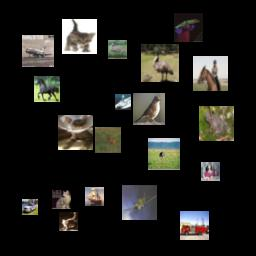airplane: (122, 185, 157, 220), (22, 35, 54, 67)
automobile: (22, 199, 38, 215)
bird: (141, 44, 179, 82), (148, 138, 180, 170), (133, 93, 165, 125), (108, 40, 127, 59)
cat: (58, 115, 93, 150), (62, 19, 97, 54), (52, 190, 71, 209), (59, 212, 78, 231)
deer: (95, 127, 121, 153)
dog: (201, 162, 220, 181)
frog: (199, 106, 234, 141), (174, 13, 203, 42)
ship: (85, 187, 104, 206), (115, 94, 131, 110)
truck: (180, 211, 209, 240)
